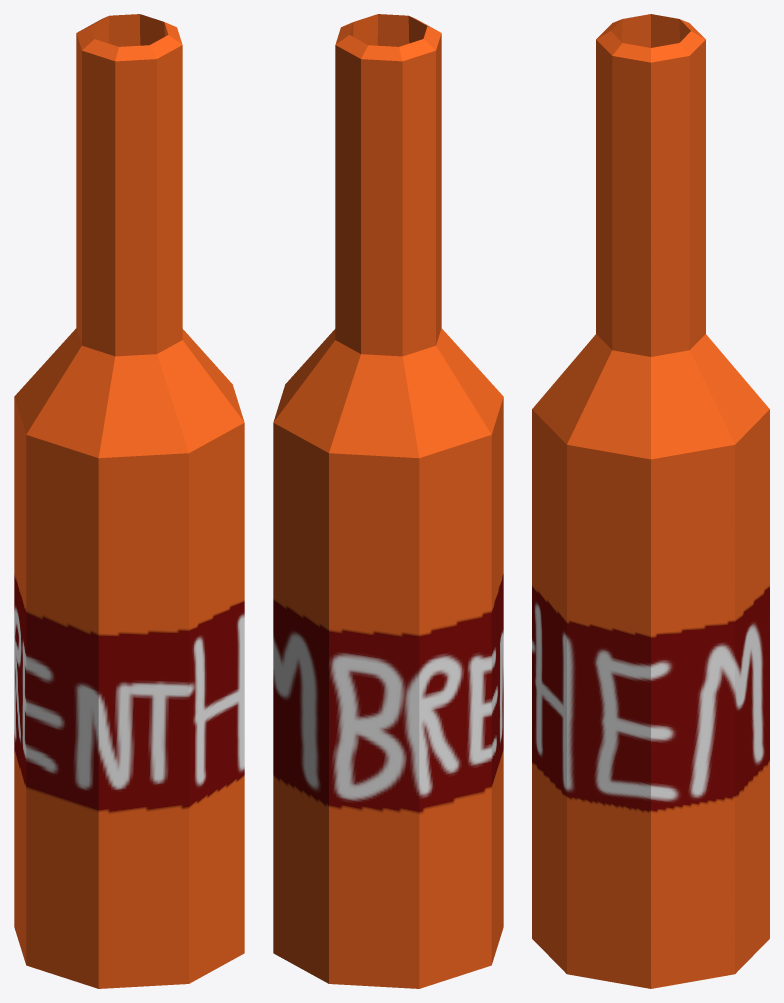
File: HJEMBRENT.fbx
3 views of the same model, side by side, from view 1: azimuth 30°, elevation 25°; view 2: azimuth 150°, elevation 25°; view 3: azimuth 270°, elevation 25° (orthographic).
Visible parts, largest first — view 1: Cylinder; view 2: Cylinder; view 3: Cylinder.
Part boxes in pixels (<box>): Cylinder: <box>14,14,244,988</box>; Cylinder: <box>273,14,503,988</box>; Cylinder: <box>532,14,769,988</box>.
Bounding box in the file's own units: 200 × 842 × 200.
Materials: 1 (1 with a texture image).
